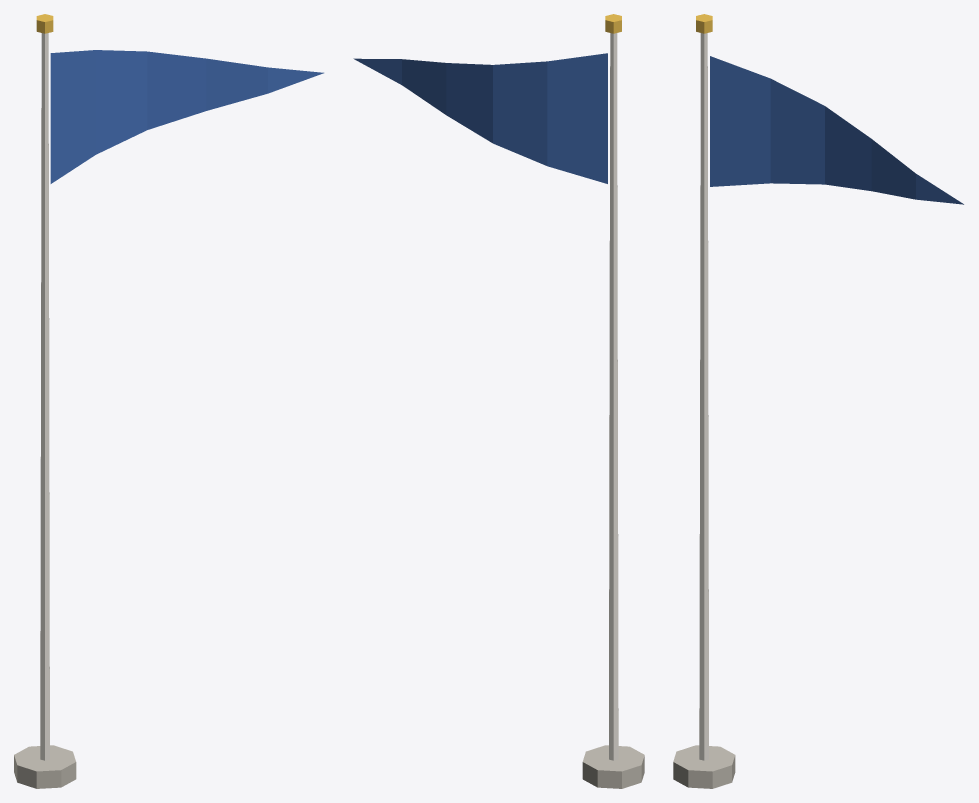
File: flag_pole_blue.glb
3 renders of one model, left to right at view 1: azimuth 30°, elevation 25°; view 2: azimuth 150°, elevation 25°; view 3: azimuth 330°, elevation 25°, orthographic.
Parts seen in each view (by area): view 1: flag_pole_blue; view 2: flag_pole_blue; view 3: flag_pole_blue.
Part boxes in pixels (x1,y1,x2,y2): flag_pole_blue: (14,14,323,788); flag_pole_blue: (353,14,644,788); flag_pole_blue: (673,14,963,788).
Size of the model in its own units: 2.14 by 5.2 by 0.4.
